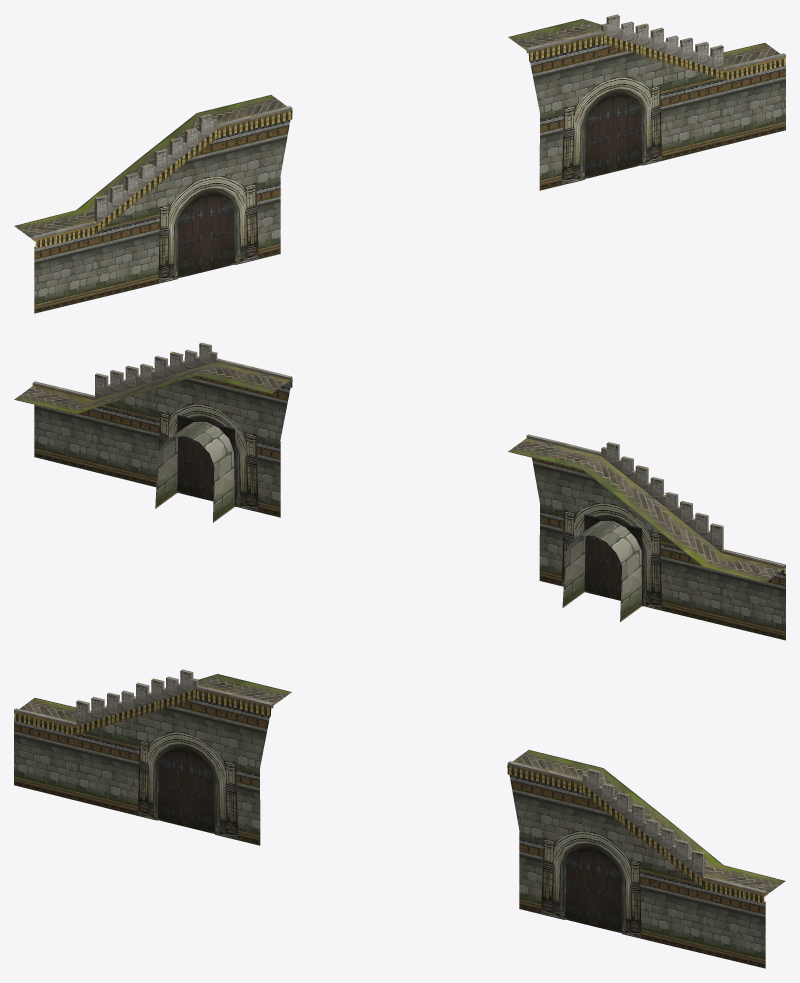
The model's file is DN_mcmbd02.FBX.
The picture shows the model from 3 angles, top to bottom: view 1: azimuth 30°, elevation 25°; view 2: azimuth 150°, elevation 25°; view 3: azimuth 330°, elevation 25°; orthographic projection.
Visible parts, largest first — view 1: DN_mcmbd02; view 2: DN_mcmbd02; view 3: DN_mcmbd02.
Boxes of the visible parts, x1,y1,x2,y2 form: DN_mcmbd02: [14, 14, 785, 313]; DN_mcmbd02: [14, 342, 785, 640]; DN_mcmbd02: [14, 669, 785, 968].
Bounding box in the file's own units: 11784 × 2333 × 624.
1 material, 1 textured.
